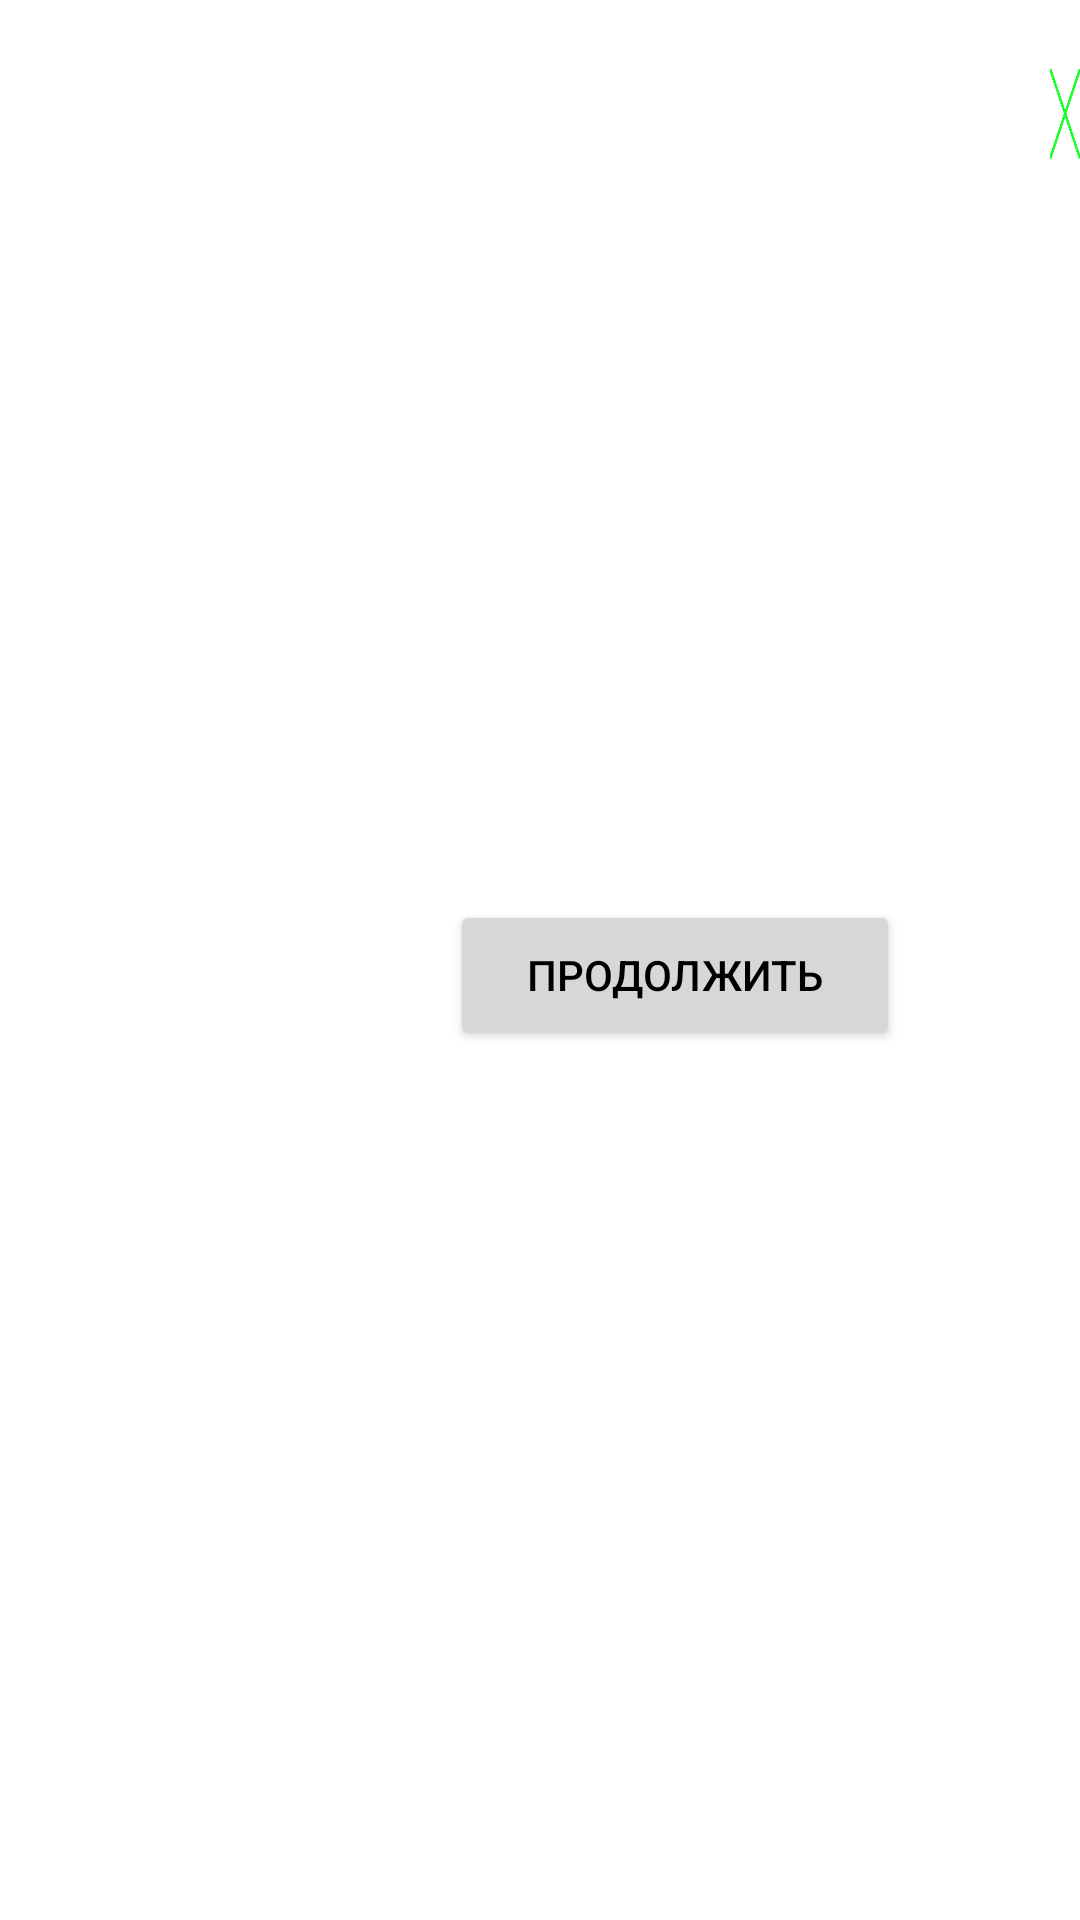

Icons on this 1080 × 1920 Android screen, each with the point to tap as [x,y]:
close: [1065,114]
